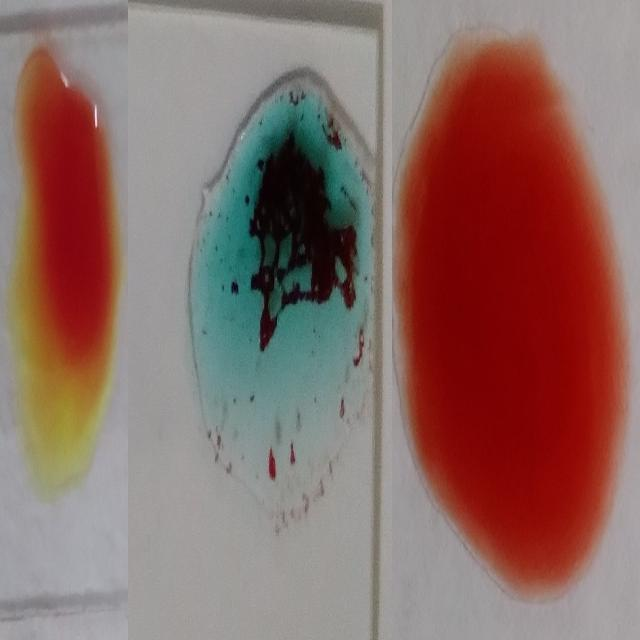A: (194, 63, 370, 532)
